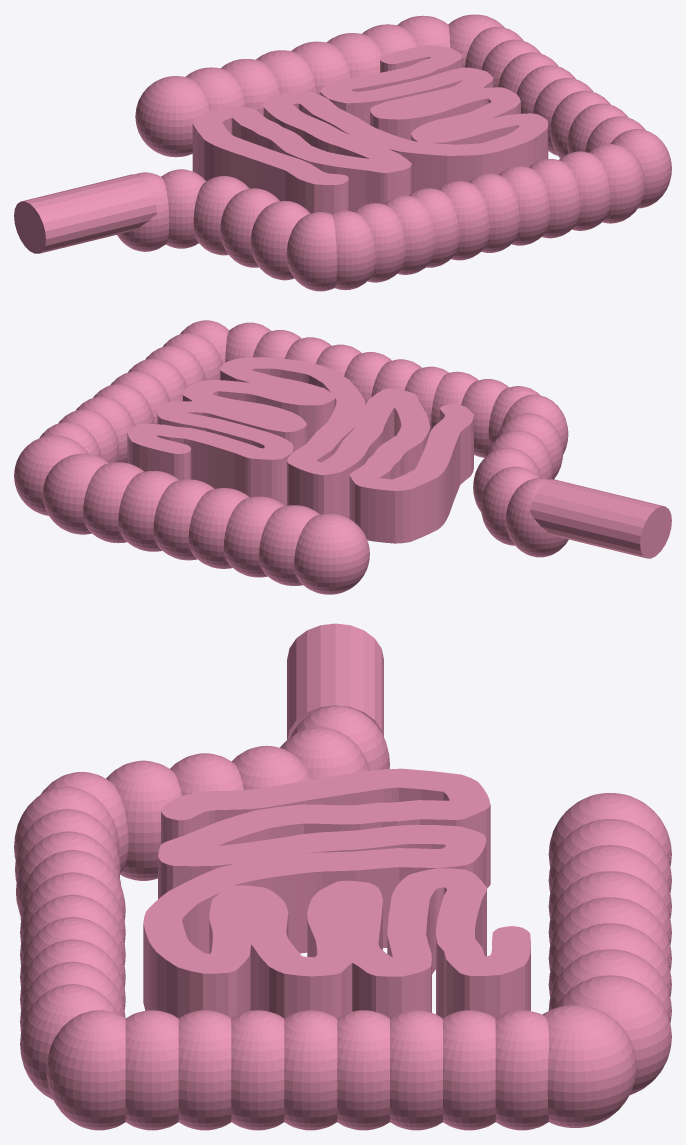
The model's file is intestines.gltf.
The picture shows the model from 3 angles, top to bottom: view 1: azimuth 30°, elevation 25°; view 2: azimuth 150°, elevation 25°; view 3: azimuth 270°, elevation 25°; orthographic projection. The views are drawn at different scales.
Visible parts, largest first — view 1: Intestines; view 2: Intestines; view 3: Intestines.
Part boxes in pixels (bbox=[...]): Intestines: bbox=[14, 14, 671, 291]; Intestines: bbox=[14, 320, 671, 594]; Intestines: bbox=[14, 623, 671, 1130].
Bounding box in the file's own units: 28.77 × 3.63 × 19.36.
